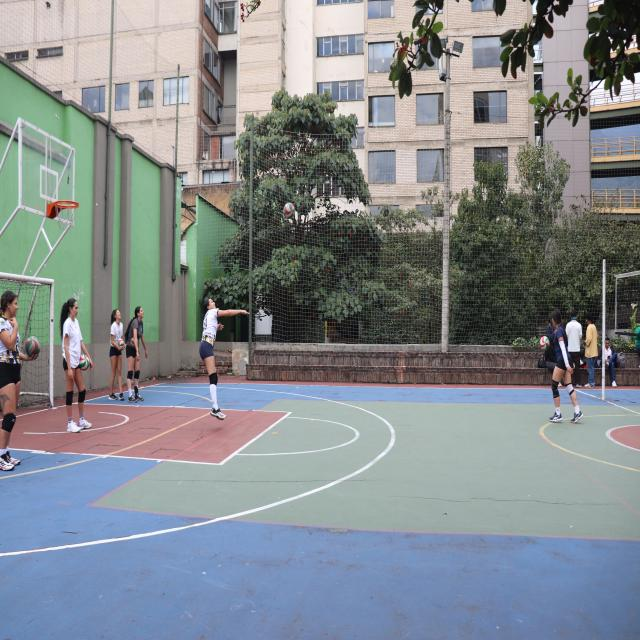volleyball: (25, 336, 41, 357), (283, 202, 295, 220), (80, 354, 90, 371), (539, 336, 550, 350), (116, 338, 124, 348), (130, 337, 136, 349)
